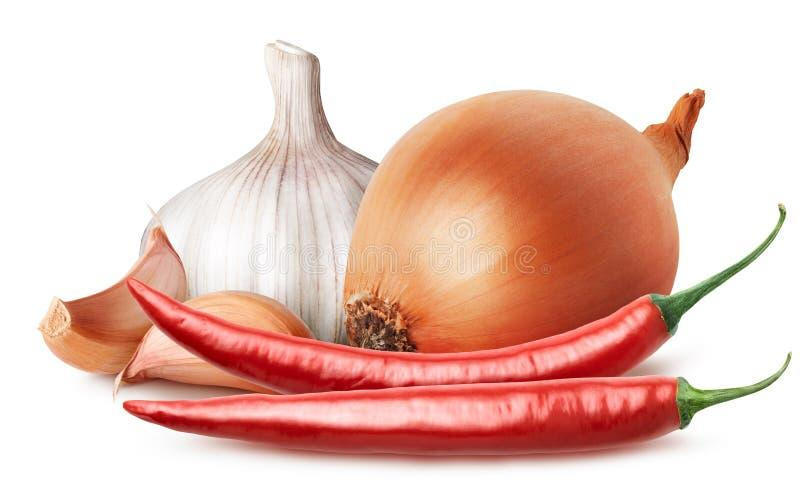Garlic: (163, 41, 376, 341)
Onion: (345, 91, 703, 352)
Redchilli: (127, 279, 668, 391), (124, 376, 678, 452)
